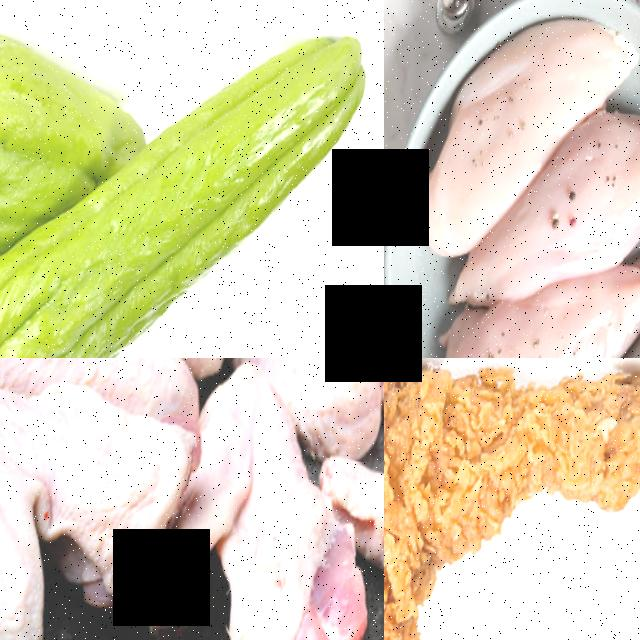chicken breast: (384, 19, 571, 247), (495, 107, 640, 329), (438, 308, 640, 358)
chicken thigh: (384, 358, 640, 640)
chicken wing: (0, 358, 194, 640), (164, 358, 384, 479)
